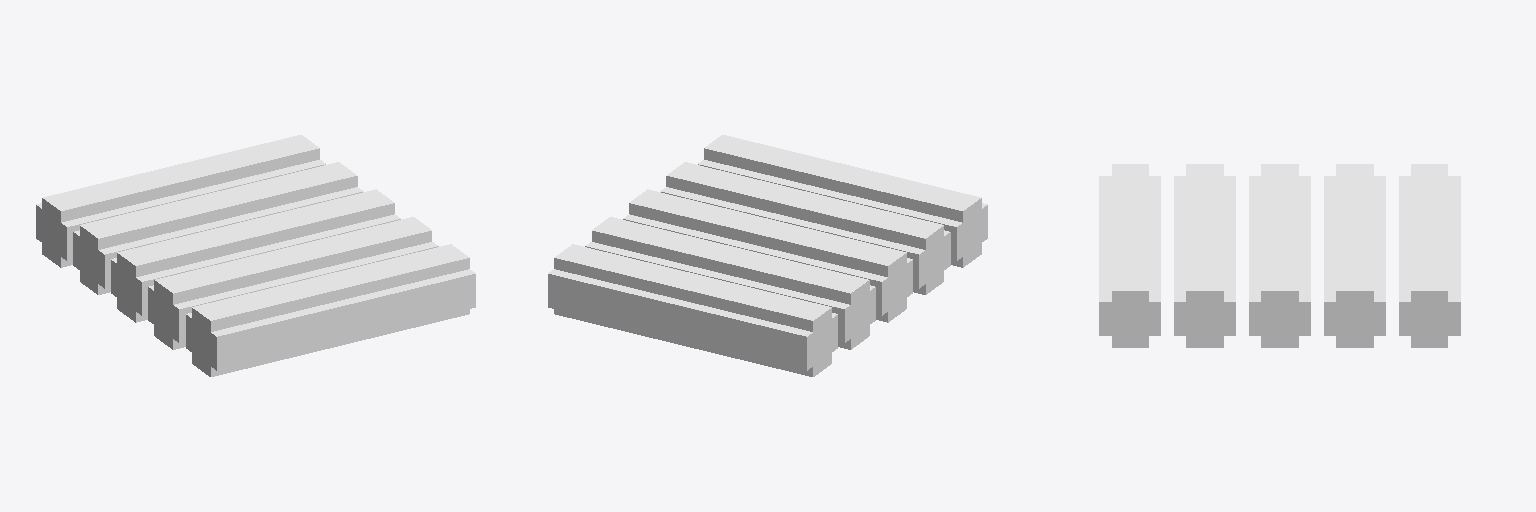
Rendered from obj.trees.obj.
3 renders of one model, left to right at view 1: azimuth 30°, elevation 25°; view 2: azimuth 150°, elevation 25°; view 3: azimuth 270°, elevation 25°, orthographic.
Parts seen in each view (by area): view 1: object 1; view 2: object 1; view 3: object 1.
Part boxes in pixels (left/top/right/bottom): object 1: left=36, top=135, right=475, bottom=376; object 1: left=548, top=135, right=987, bottom=376; object 1: left=1099, top=164, right=1460, bottom=347.
Bounding box in the file's own units: 2.4 × 0.5 × 2.9.